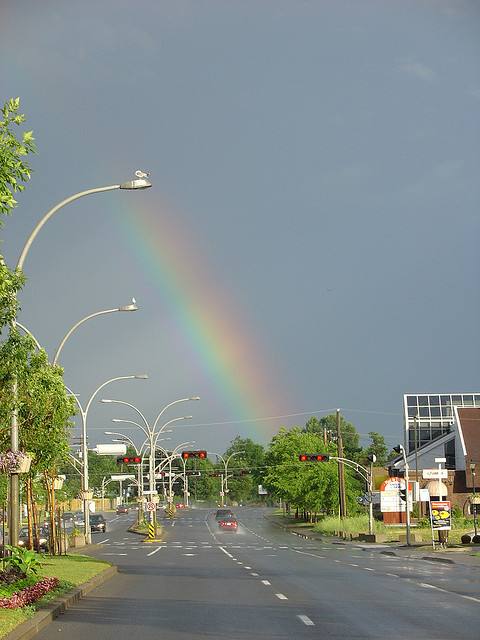Car: (87, 518, 113, 534), (218, 516, 242, 530)
Traffic light: (301, 453, 364, 463), (116, 455, 148, 465), (180, 449, 213, 458)
